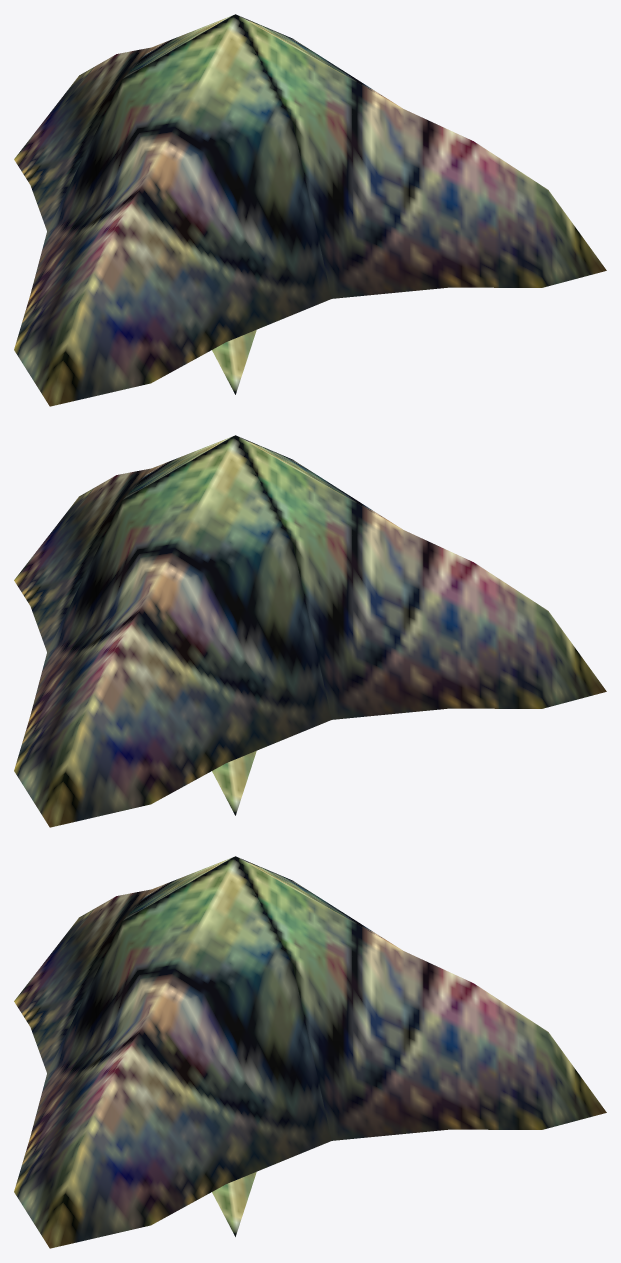
Rendered from C_Tree03.glb.
The picture shows the model from 3 angles, top to bottom: view 1: azimuth 30°, elevation 25°; view 2: azimuth 150°, elevation 25°; view 3: azimuth 270°, elevation 25°; orthographic projection.
Parts seen in each view (by area): view 1: C_Tree03-col; view 2: C_Tree03-col; view 3: C_Tree03-col.
Boxes of the visible parts, x1,y1,x2,y2 form: C_Tree03-col: (14, 14, 606, 406); C_Tree03-col: (14, 435, 606, 827); C_Tree03-col: (14, 856, 606, 1248).
Size of the model in its own units: 0.6231 by 0.4072 by 0.5743.
1 material, 1 textured.
